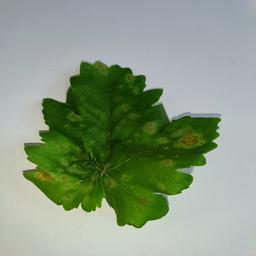Powdery-Mildew: (37, 164, 83, 197), (171, 127, 202, 155), (118, 77, 135, 93), (69, 107, 86, 123), (140, 117, 157, 133), (155, 151, 171, 168)
